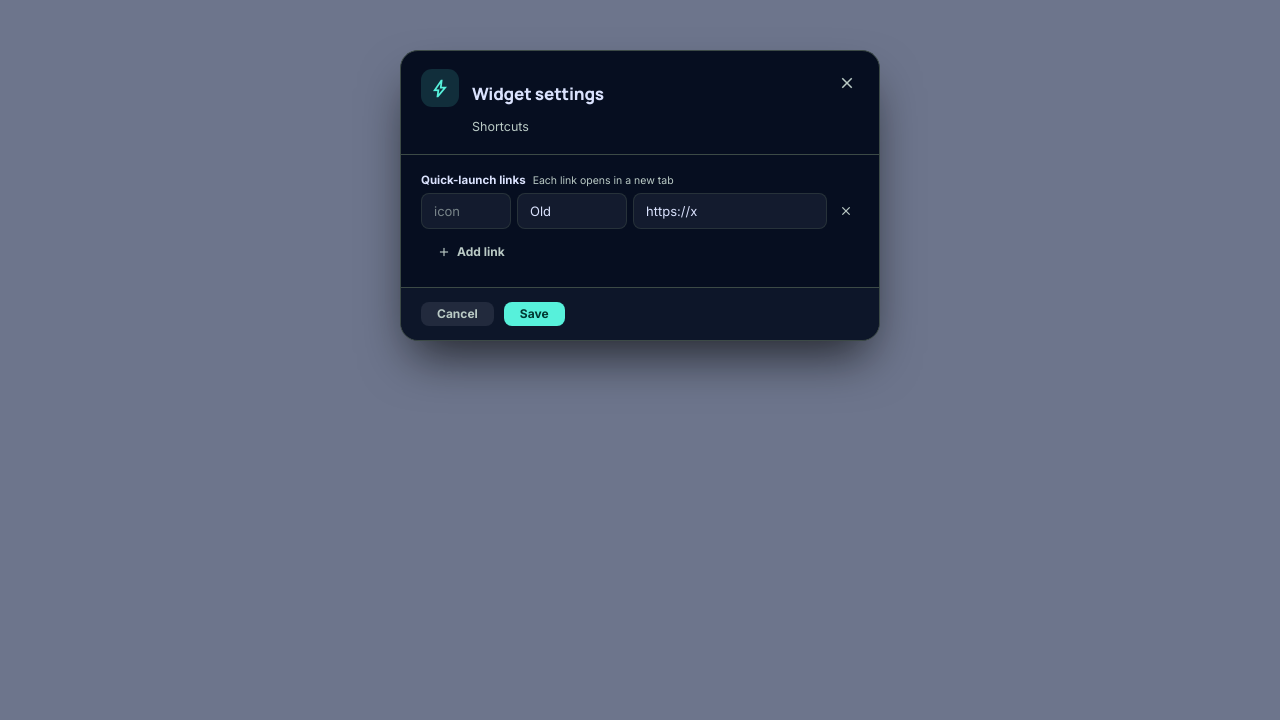
Test case: CardSettingsModal — links control › removes a link row
The image size is (1280, 720).
Expected: the 1st field with placeholder "Label" holds "Old", [517,193,627,229]
Click the button titled "Remove" at (846,211), box [833,200,859,222]
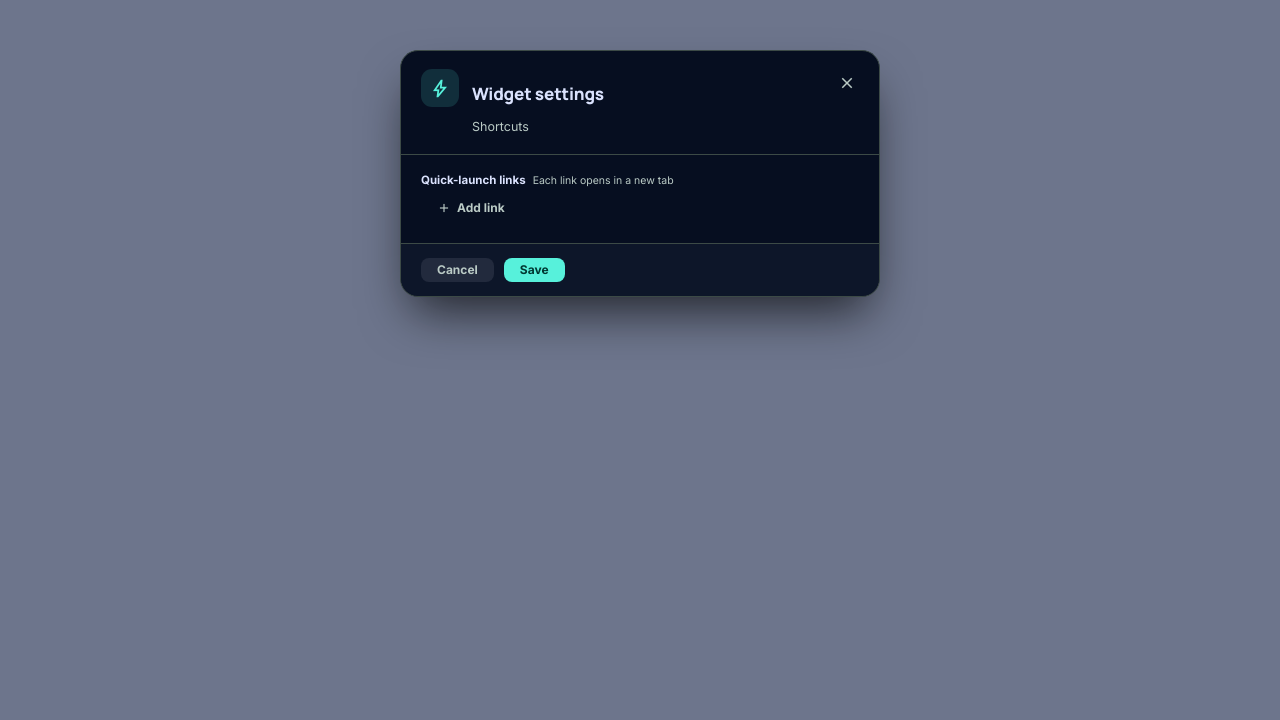
Expected: the field with placeholder "Label" is gone
